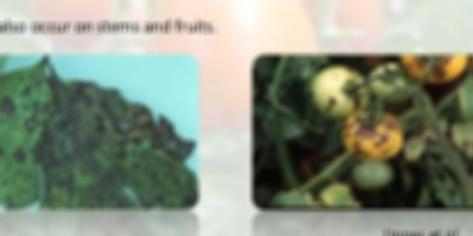Tomato leaf bacterial spot: (0, 61, 200, 208)
